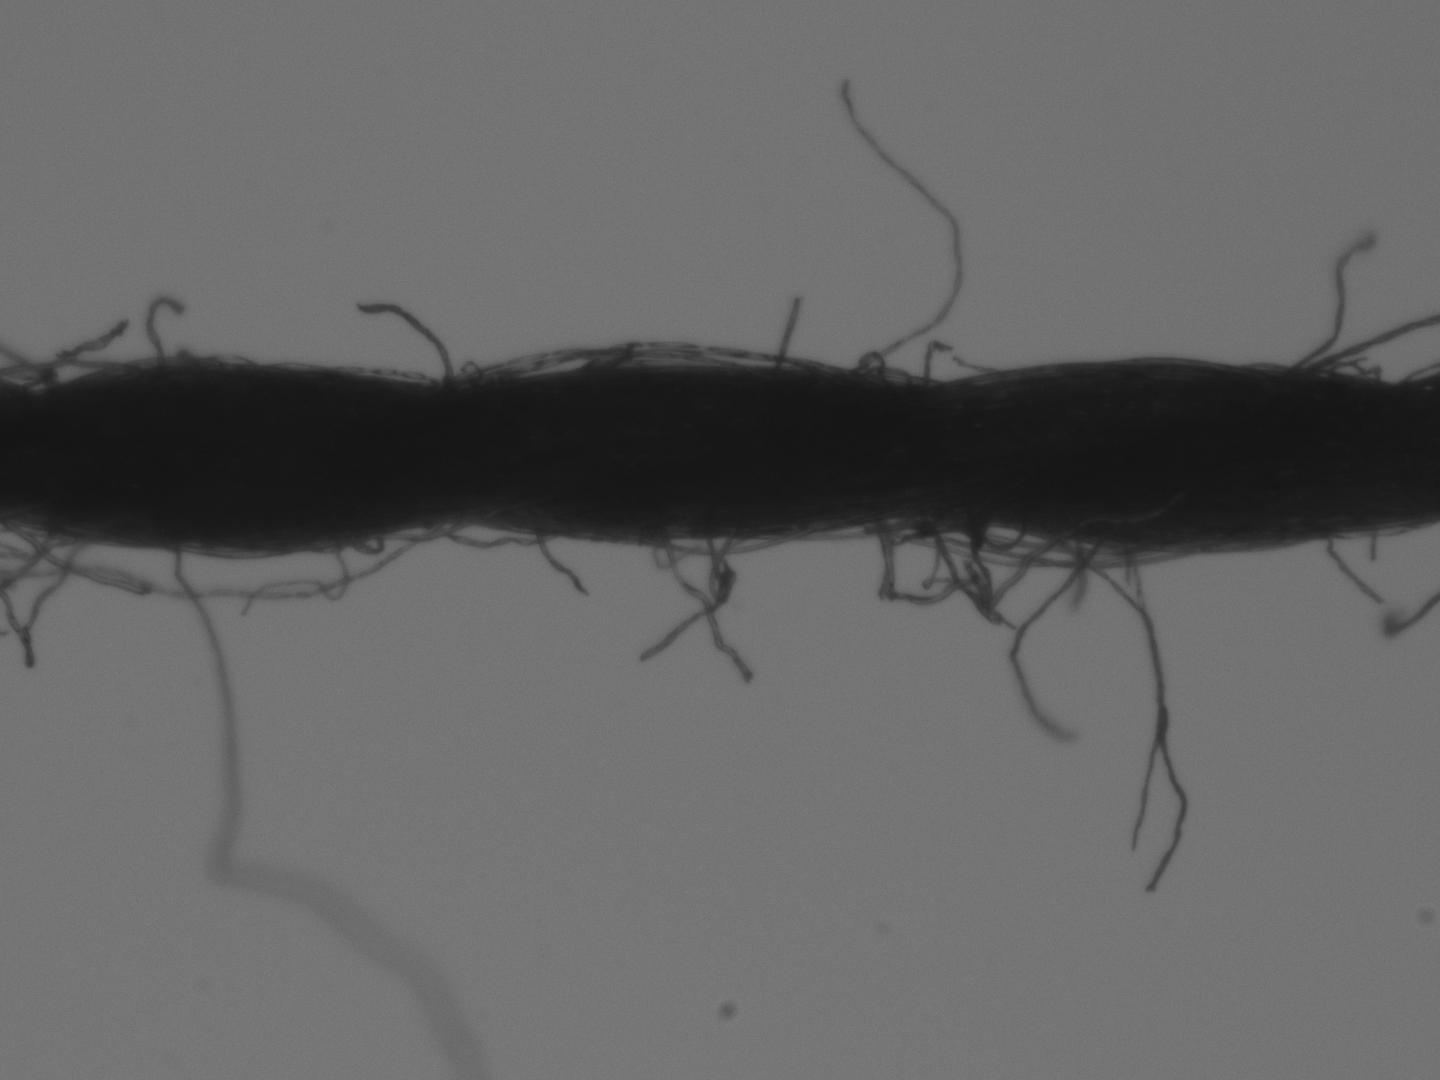loop_fiber: (3, 523, 448, 602), (870, 516, 1082, 626), (891, 517, 1194, 573), (460, 348, 828, 383), (585, 339, 737, 373), (426, 515, 557, 550), (654, 531, 806, 557), (849, 351, 939, 386), (369, 518, 473, 548), (952, 513, 1023, 555)
protruding_fiber: (1068, 538, 1192, 901), (839, 77, 967, 372), (1287, 234, 1375, 380), (356, 292, 455, 388), (1324, 533, 1387, 604), (535, 525, 590, 599), (771, 289, 810, 371), (143, 295, 184, 366)
